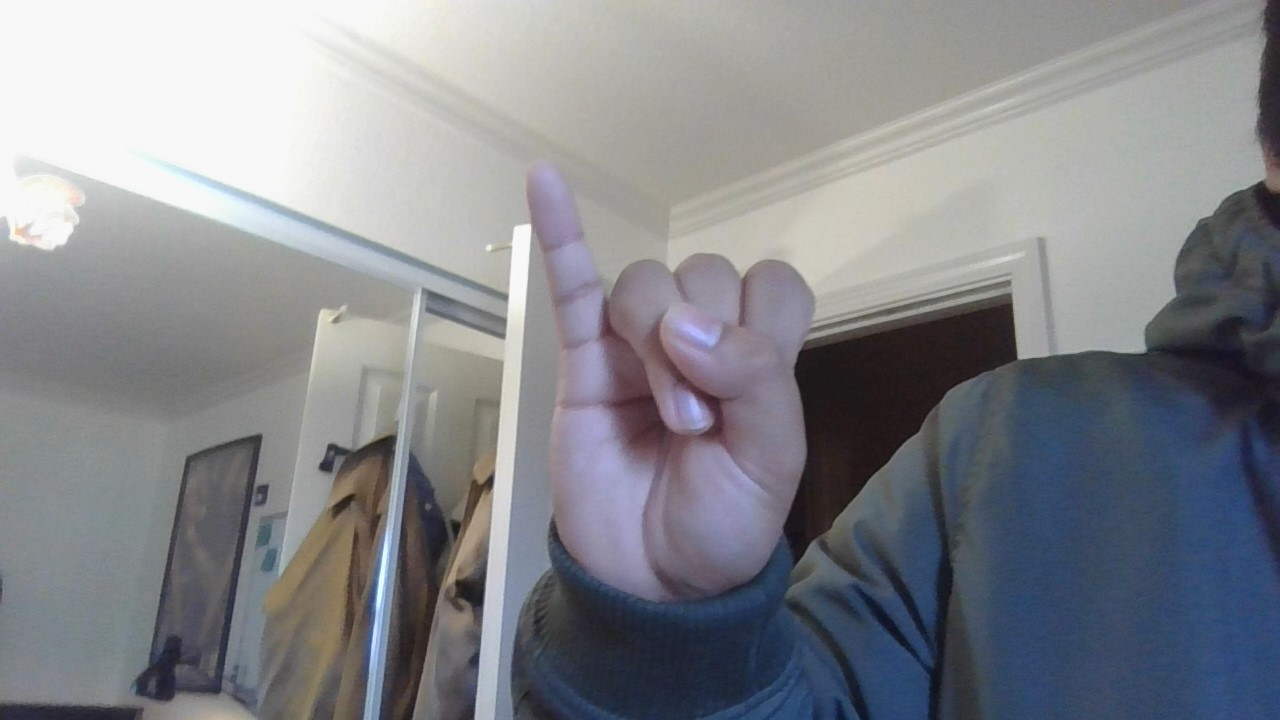i: (418, 129, 867, 671)
